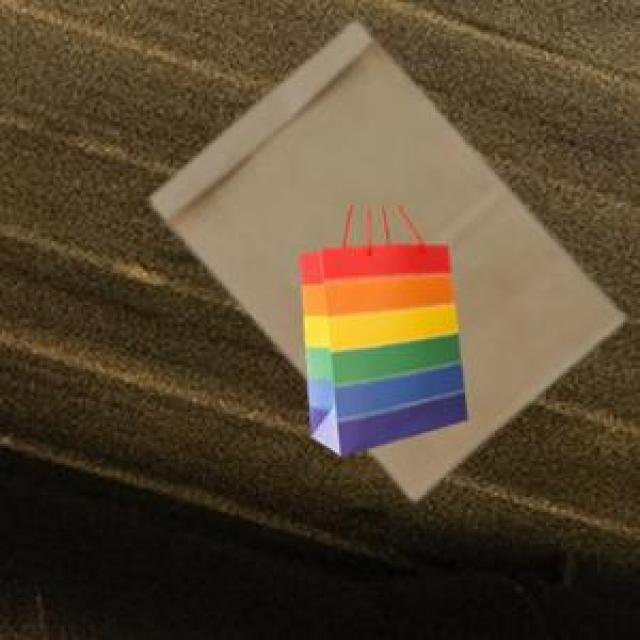paper: (147, 19, 619, 495), (297, 235, 463, 452)
